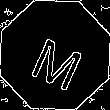M_NE: (23, 22, 87, 88)
